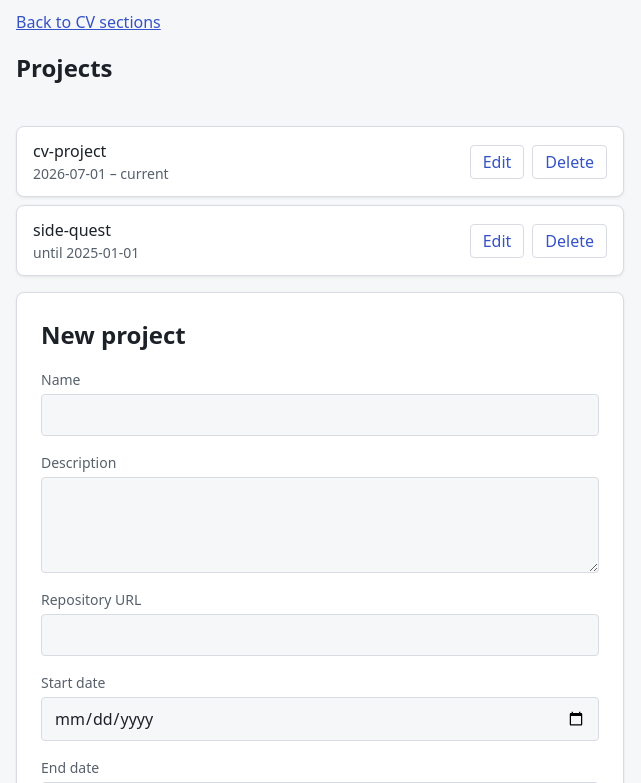
Test: ProjectsPage › deletes with DELETE and drops the row
Step 1. Click the button with aria-label "Delete side-quest" → click(570, 240), box [532,224,607,258]
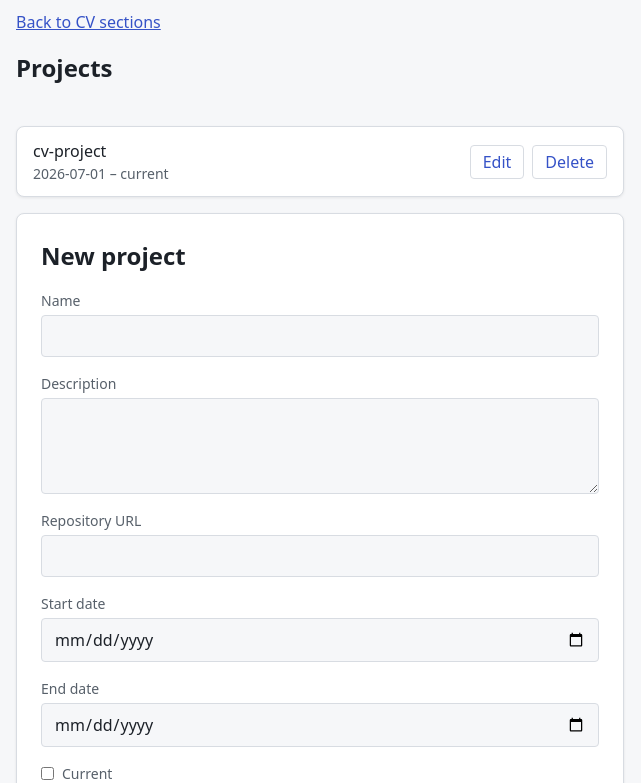
Expected: the text "side-quest" is gone
